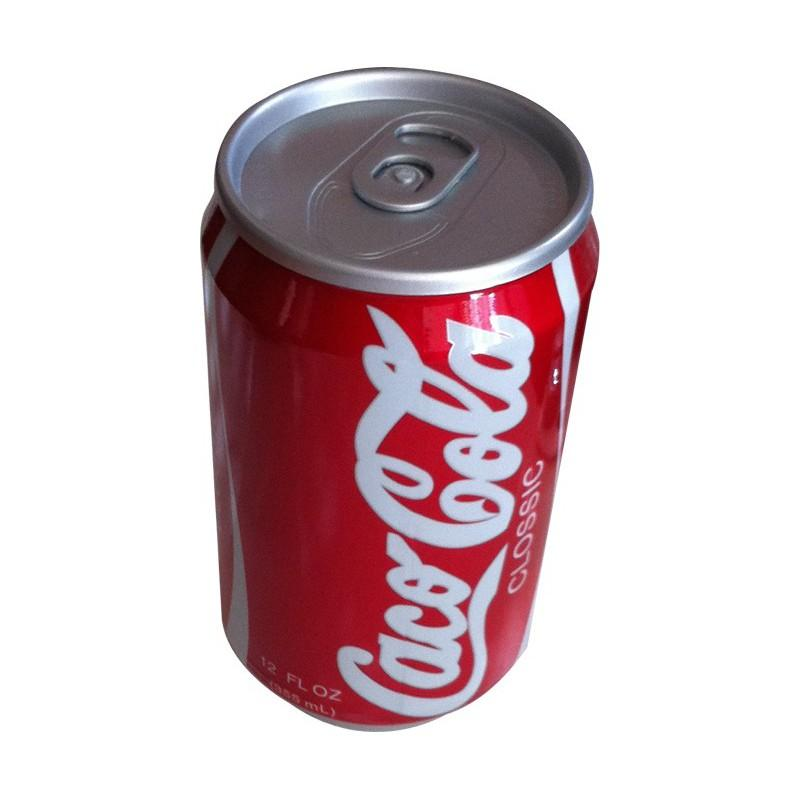metal: (201, 68, 599, 730)
